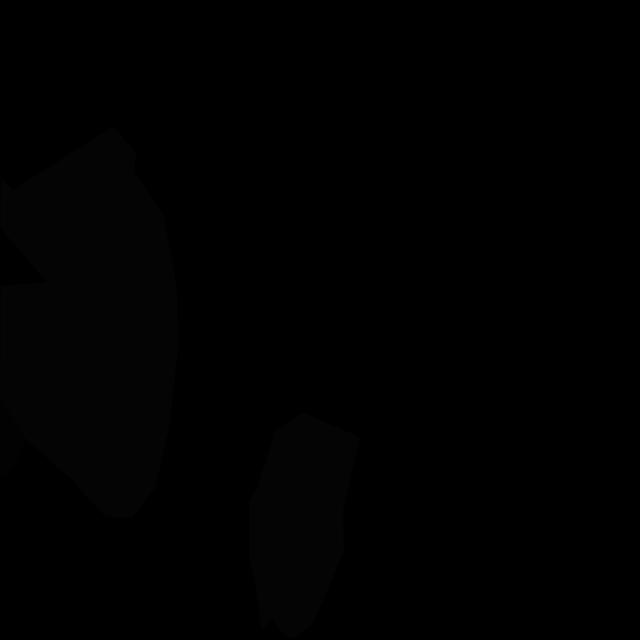cardboard: (0, 397, 25, 484)
soft_plastic: (0, 126, 179, 518), (249, 413, 360, 637)
